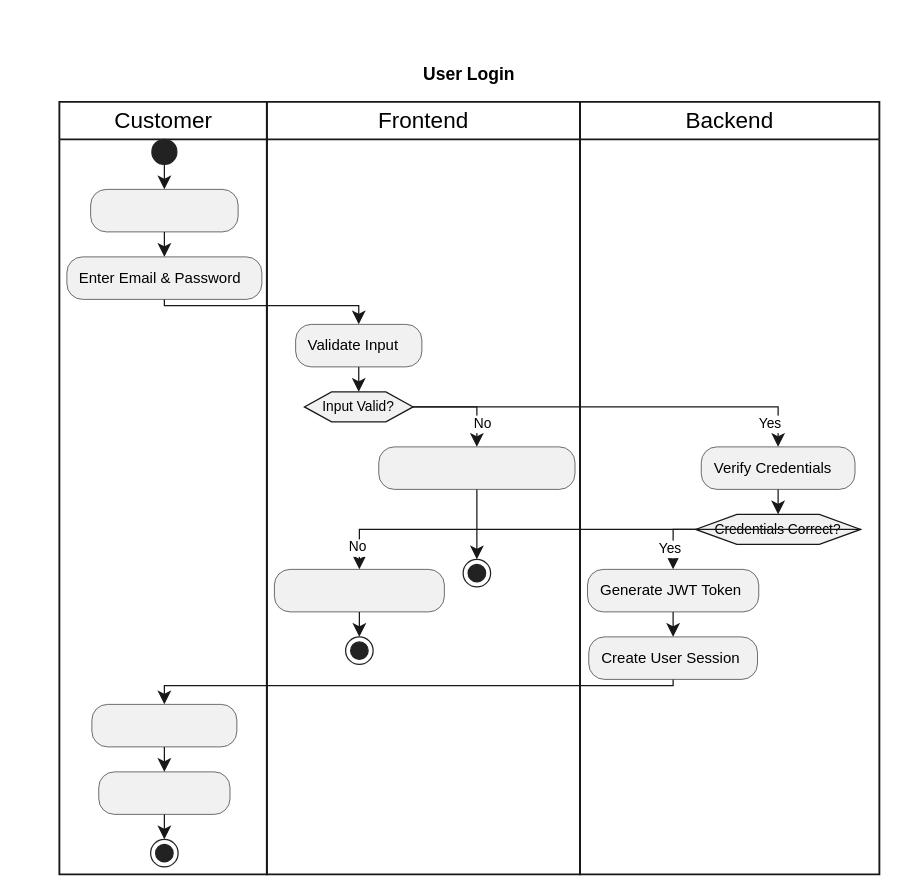
Image size: 901x896. Some labels were removed from this diagram. The shapes that lost their labels are listed below. From the top down, each one's centre as x and y in pixels, then its label:
At [164,210]: "Open Login Page".
At [476,467]: "Display Validation Error".
At [359,590]: "Display Login Failed".
At [164,725]: "Login Successful".
At [164,792]: "Access System".
